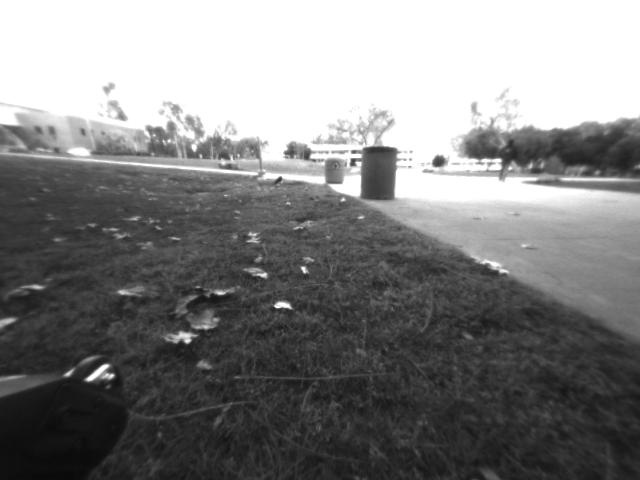trashcan: (360, 146, 393, 205), (326, 155, 350, 184)
